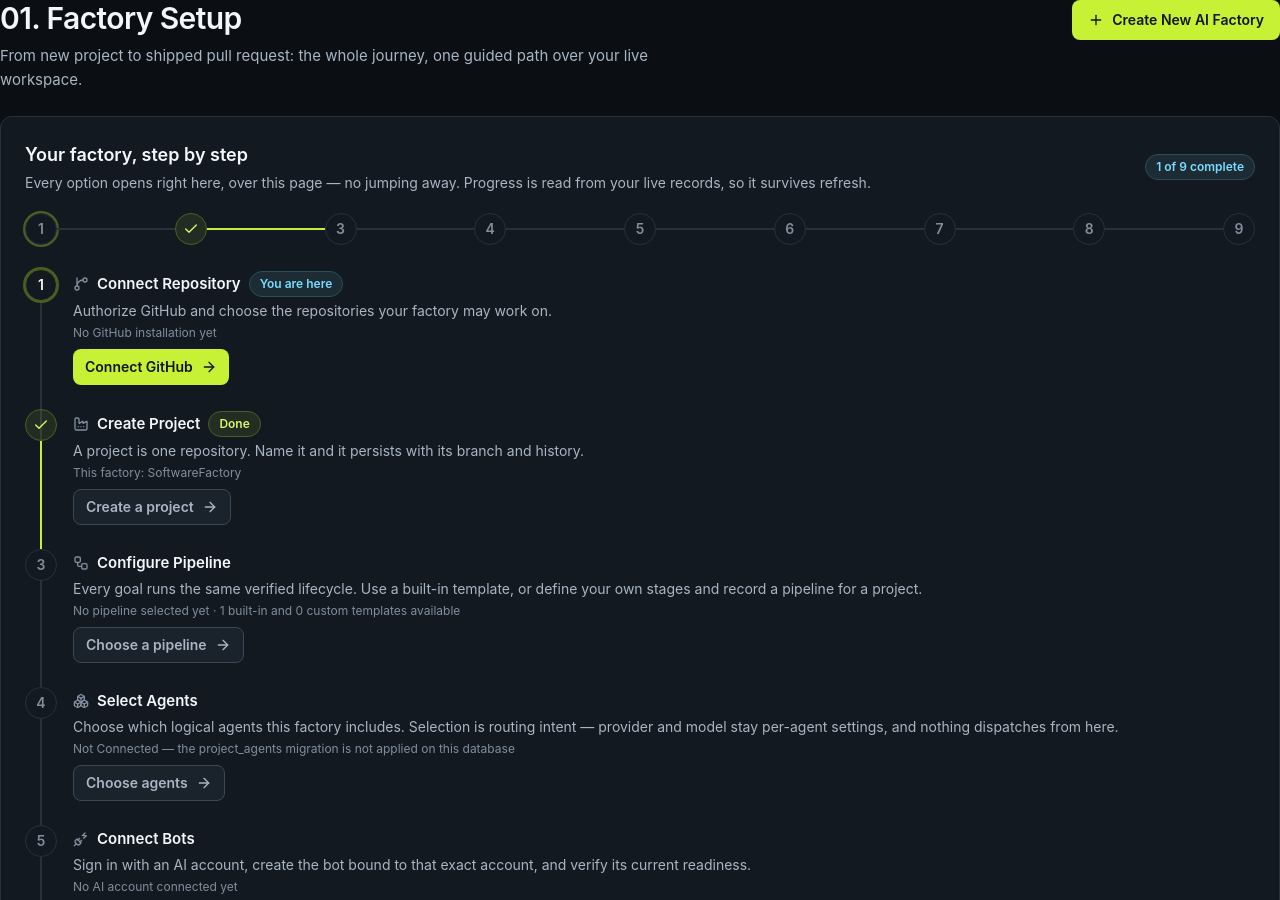
AiFactoryConsole › keeps pipeline Plan and Clone on the AI Factory's single modal surface
Click the button "Choose a pipeline" at (158, 645), box [73,627,244,663]
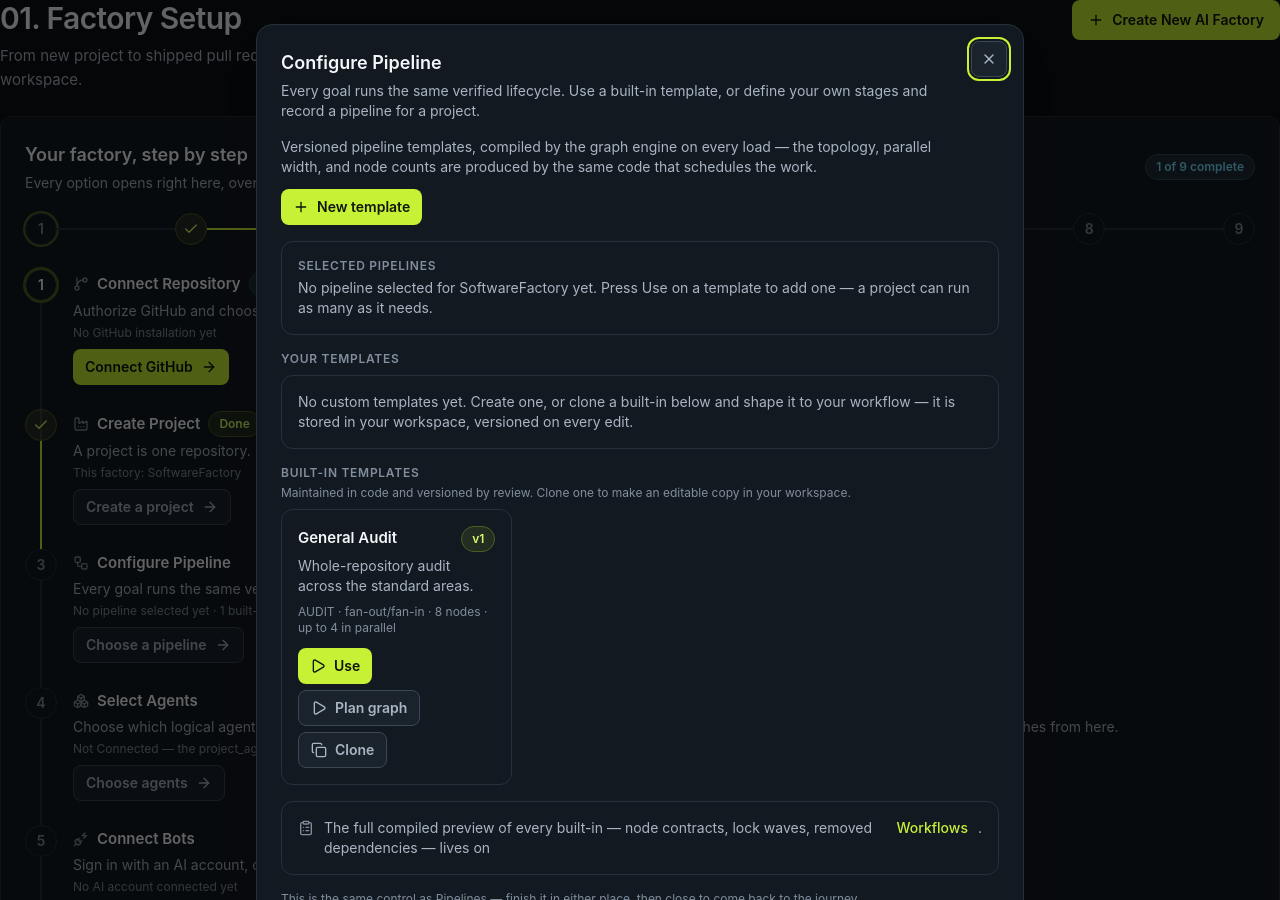
Click the button with aria-label "Plan a graph from General Audit" at (359, 708), box [298,690,420,726]
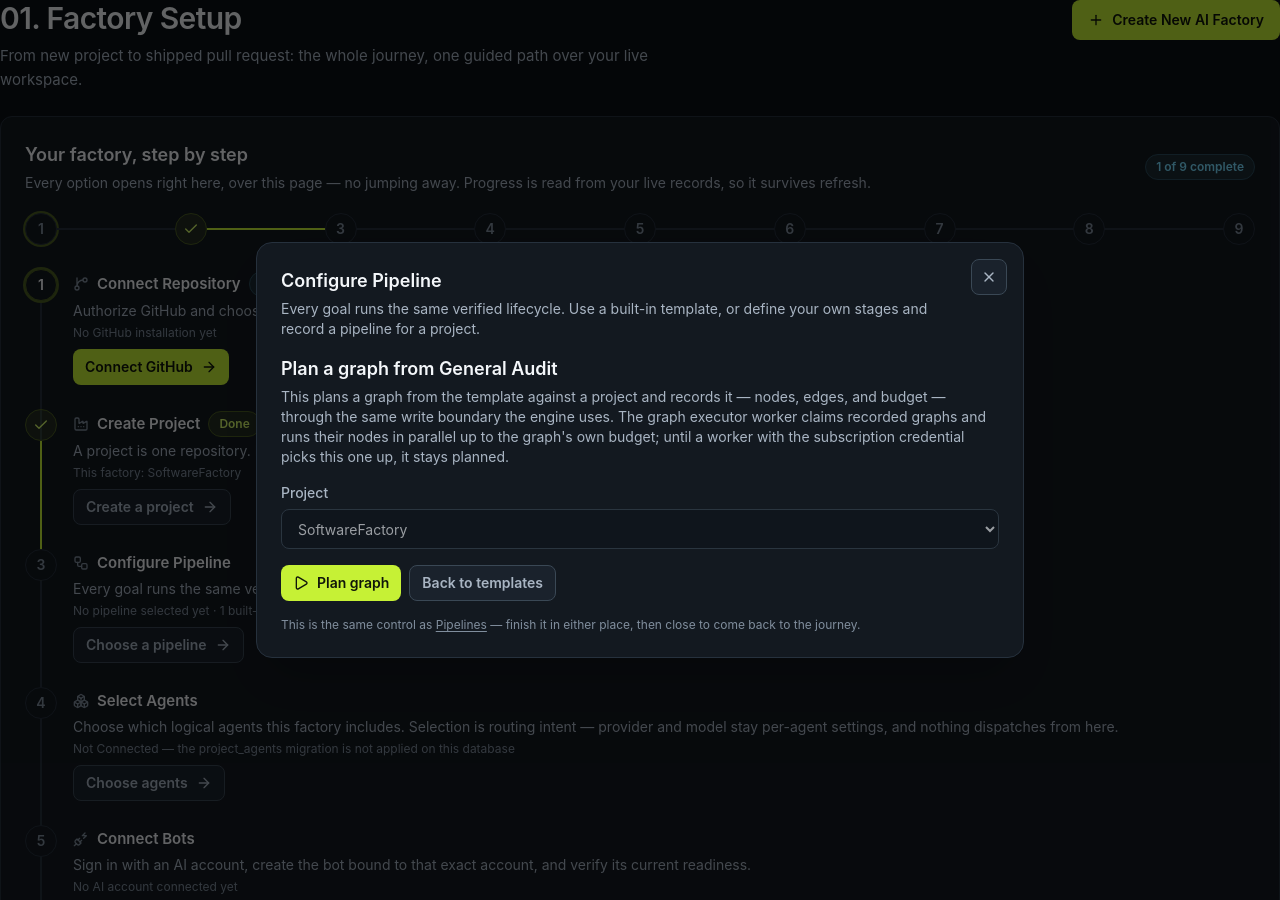
Result: the number of dialogs is 1
Result: the element "Plan a graph from General Audit" is shown at [281,355,999,601]
Result: the number of buttons named "Close" is 1 at [971,259,1007,295]
Click the button "Back to templates" at (483, 583), box [409,565,556,601]
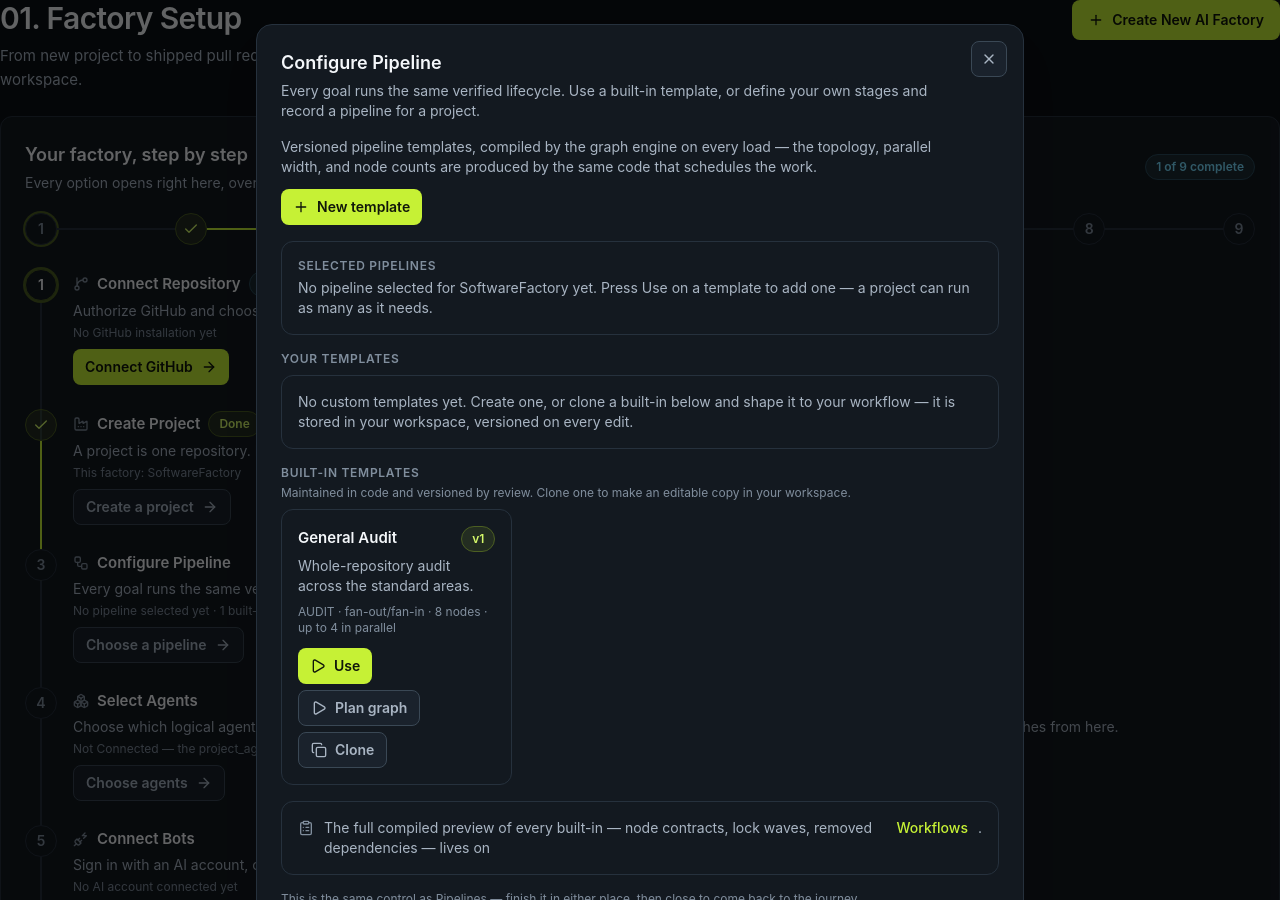
Click the button with aria-label "Clone General Audit" at (343, 750), box [298,732,387,768]
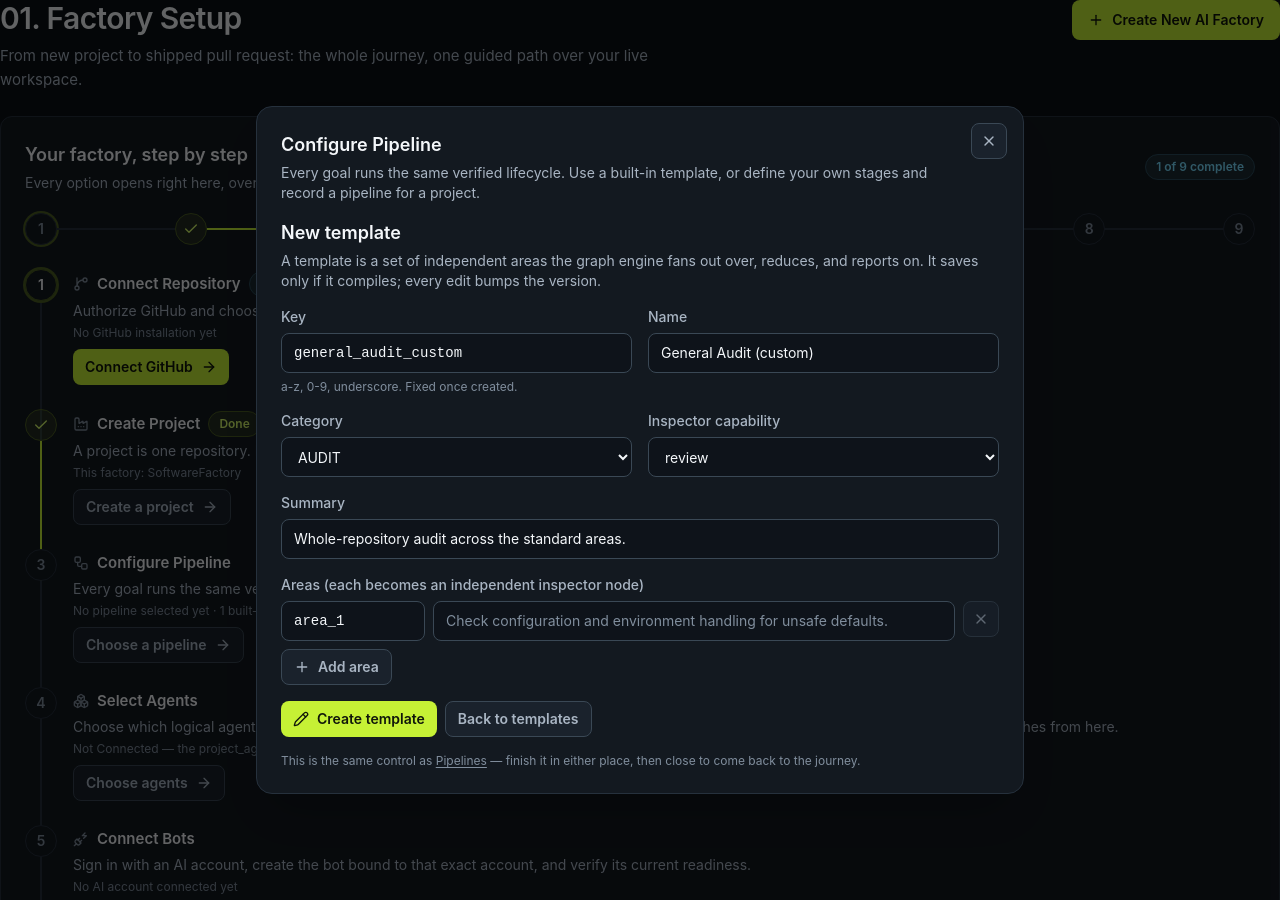
Result: the number of dialogs is 1
Result: the number of buttons named "Close" is 1 at [971,123,1007,159]
Result: the element "New template" is shown at [281,219,999,737]
